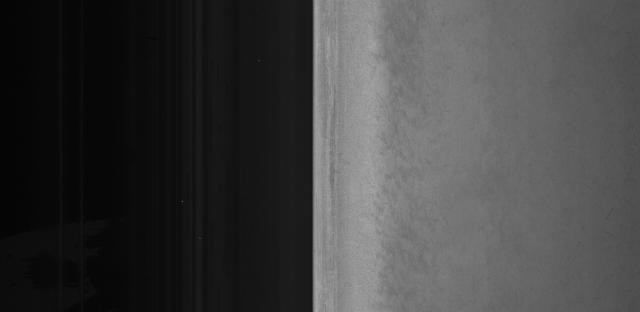silk_spot: (322, 35, 340, 161)
